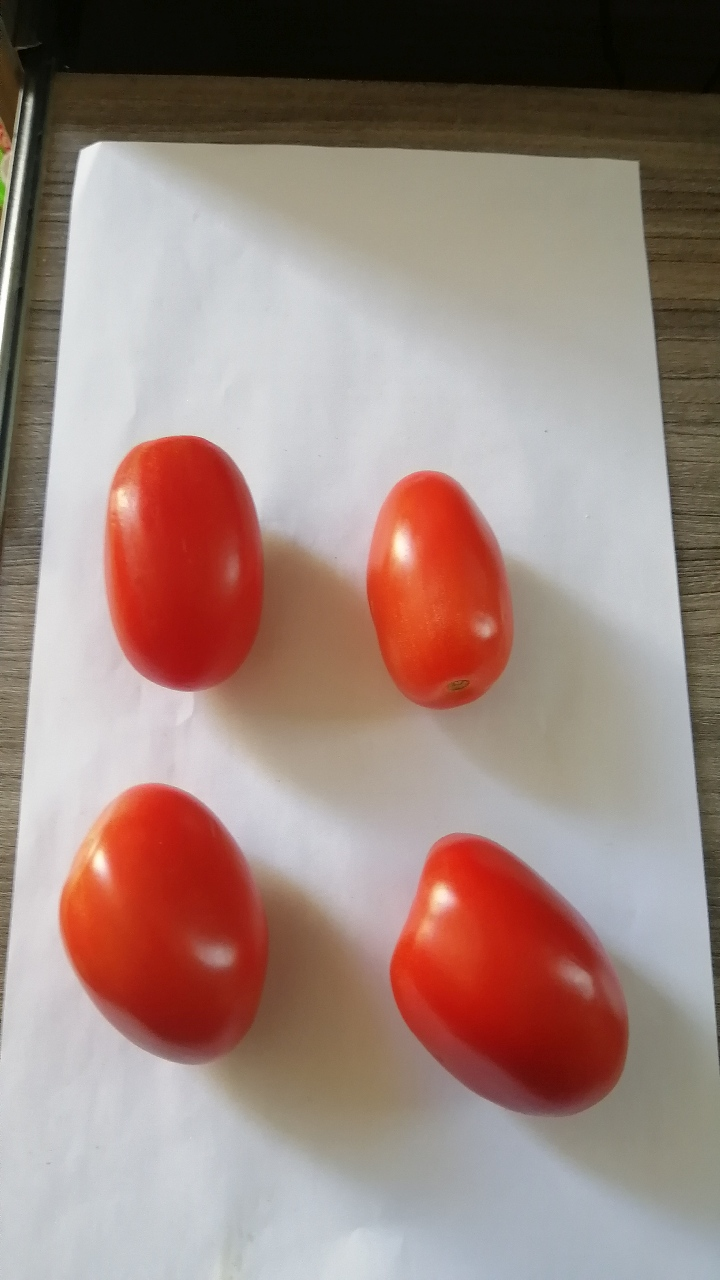tomateRojo: (358, 814, 648, 1128), (29, 769, 298, 1102), (324, 451, 543, 735), (80, 415, 277, 717)
